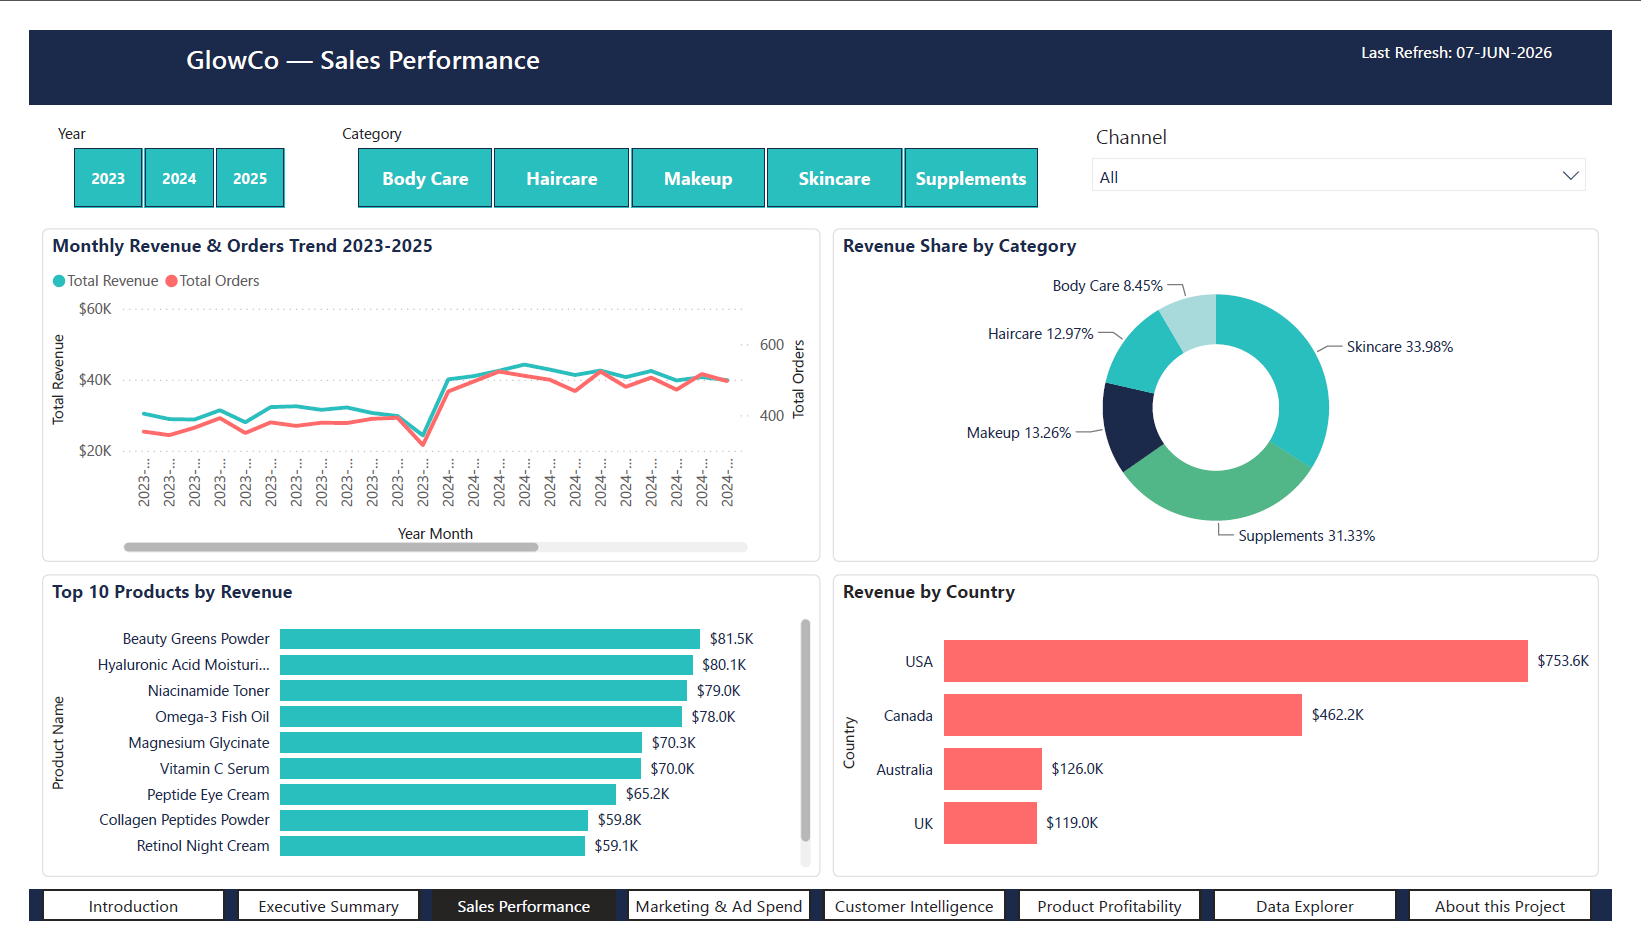

Layout of this report page (visuals, bound fields, positions):
{"tool":"powerbi","page":{"name":"Sales Performance","canvas":[1280,720],"ordinal":2},"visuals":[{"type":"shape","box":[0,0,1280,60],"z":0},{"type":"textbox","box":[20,3.3,500,40],"z":1000},{"type":"textbox","box":[1050,3.3,210,40],"z":2000},{"type":"slicer","fields":{"Values":["dim_Date.Year"]},"box":[10,70,220,80],"z":3000},{"type":"slicer","fields":{"Values":["dim_Channels.ChannelName"]},"box":[850,70,420,80],"z":4000},{"type":"slicer","fields":{"Values":["dim_Products.Category"]},"box":[240,70,600,80],"z":5000},{"type":"lineChart","title":"Monthly Revenue & Orders Trend 2023-2025","fields":{"Y":["_Measures.Total Revenue"],"Y2":["_Measures.Total Orders"],"Category":["dim_Date.YearMonth"]},"box":[10,160,630,270],"z":6000},{"type":"donutChart","title":"Revenue Share by Category","fields":{"Category":["dim_Products.Category"],"Y":["_Measures.Total Revenue"]},"box":[650,160,620,270],"z":7000},{"type":"clusteredBarChart","title":"Top 10 Products by Revenue","fields":{"Category":["dim_Products.ProductName"],"Y":["_Measures.Total Revenue"]},"box":[10,440,630,245],"z":8000},{"type":"clusteredBarChart","title":"Revenue by Country","fields":{"Category":["dim_Customers.Country"],"Y":["_Measures.Total Revenue"]},"box":[650,440,620,245],"z":9000},{"type":"shape","box":[0,695,1280,25],"z":10000},{"type":"pageNavigator","box":[10,695,1260,25],"z":11000}]}

Visuals, with their boxes in screenshot pixels (x1, y1, x2, y2), scaled from the page's 1280x720 canvas onto the 1641x947 screenshot:
shape: [0,0,1640,79]
textbox: [26,4,667,57]
textbox: [1346,4,1615,57]
slicer - dim_Date.Year: [13,92,295,197]
slicer - dim_Channels.ChannelName: [1090,92,1628,197]
slicer - dim_Products.Category: [308,92,1077,197]
"Monthly Revenue & Orders Trend 2023-2025" lineChart: [13,210,820,566]
"Revenue Share by Category" donutChart: [833,210,1628,566]
"Top 10 Products by Revenue" clusteredBarChart: [13,579,820,901]
"Revenue by Country" clusteredBarChart: [833,579,1628,901]
shape: [0,914,1640,946]
pageNavigator: [13,914,1628,946]
